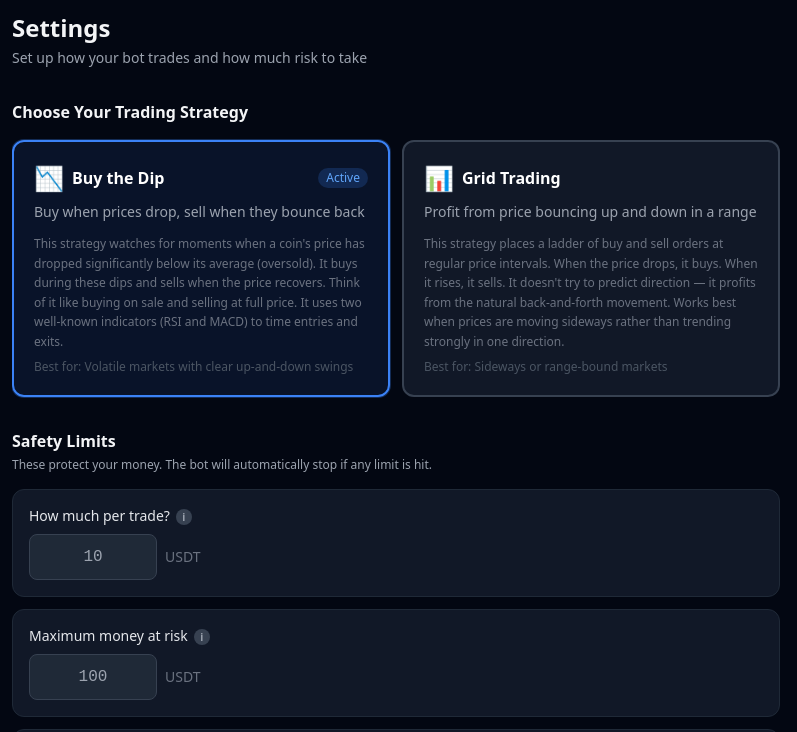
Test: SettingsPage › prevents negative values in inputs
The width and height of the screenshot is (797, 732).
Type "-5" into the field with test id "input-spend_per_trade".
click(93, 557); type("-5")  # box x1=29 y1=534 x2=157 y2=580
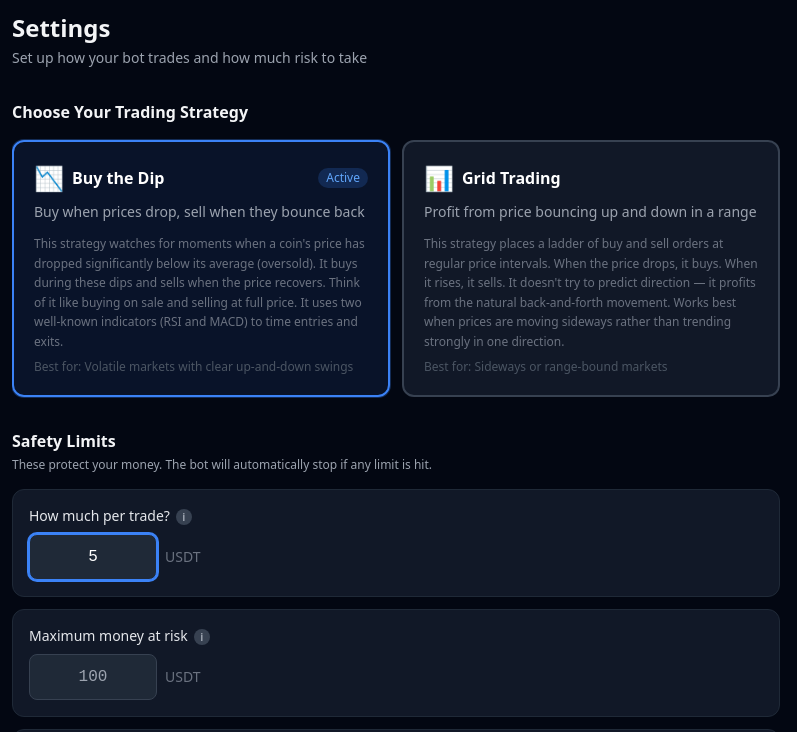
Result: the field with test id "input-spend_per_trade" holds "5" at x1=29 y1=534 x2=157 y2=580
